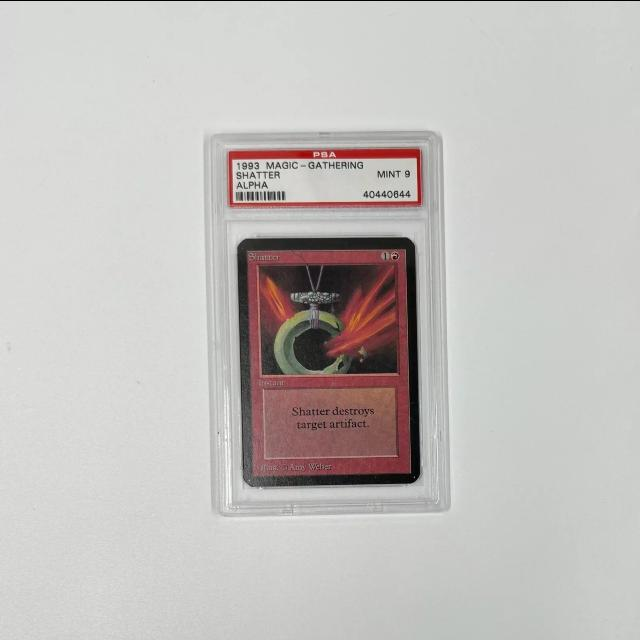card: (236, 235, 421, 486)
psa_label_old: (227, 147, 422, 206)
psa_slab: (210, 130, 451, 517)
